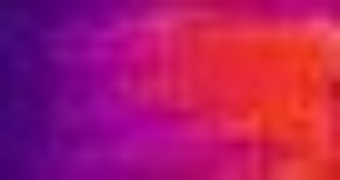Shadow: (1, 1, 155, 179)
